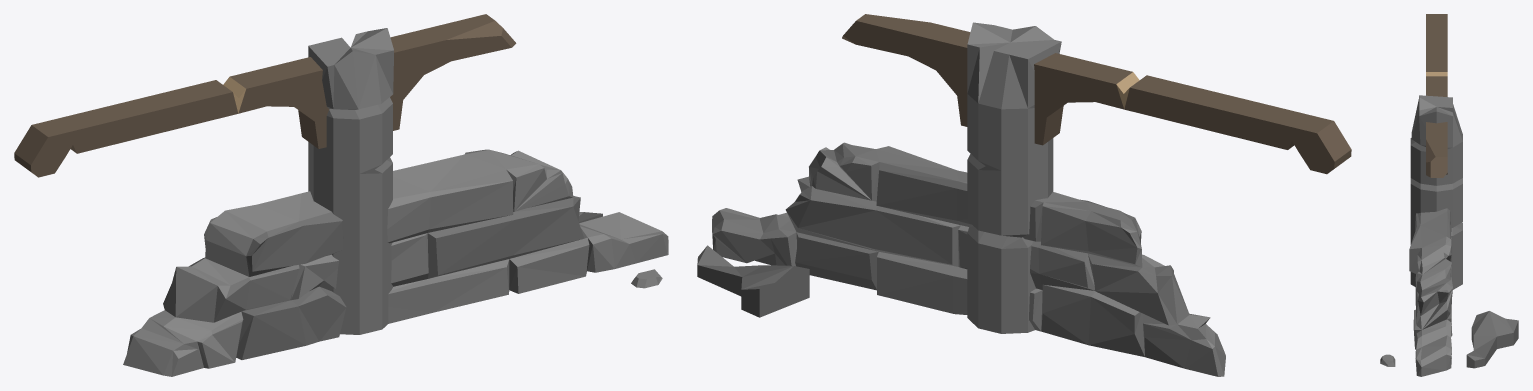
File: _ruin_10.glb
3 renders of one model, left to right at view 1: azimuth 30°, elevation 25°; view 2: azimuth 150°, elevation 25°; view 3: azimuth 270°, elevation 25°, orthographic. The views are drawn at different scales.
Visible parts, largest first — view 1: ruin_10; view 2: ruin_10; view 3: ruin_10.
Part boxes in pixels (x1,y1,x2,y2): ruin_10: (14, 14, 668, 376); ruin_10: (697, 14, 1351, 376); ruin_10: (1380, 14, 1518, 376).
Bounding box in the file's own units: 6.87 × 2.9 × 2.01.
Materials: 1 (1 with a texture image).
